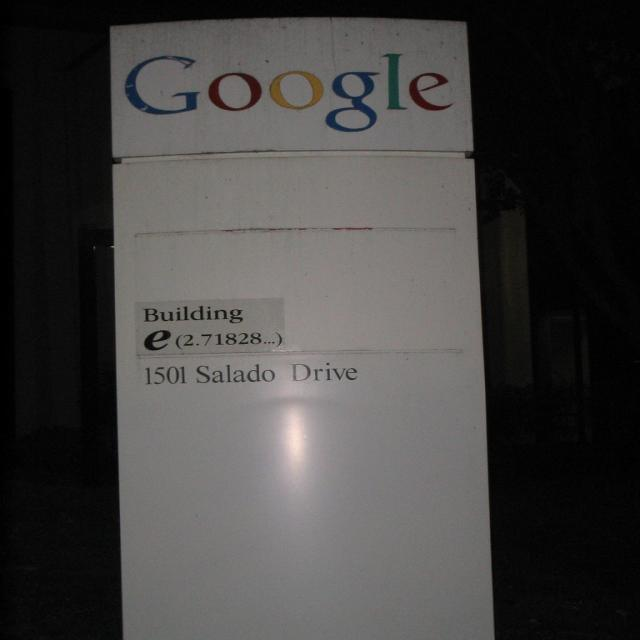google: (115, 49, 465, 137)
